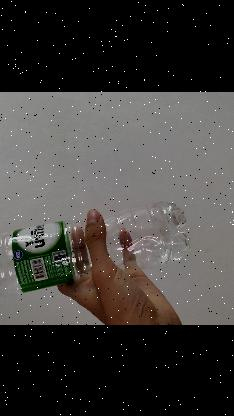Plastic Bottle: (0, 186, 199, 295)
